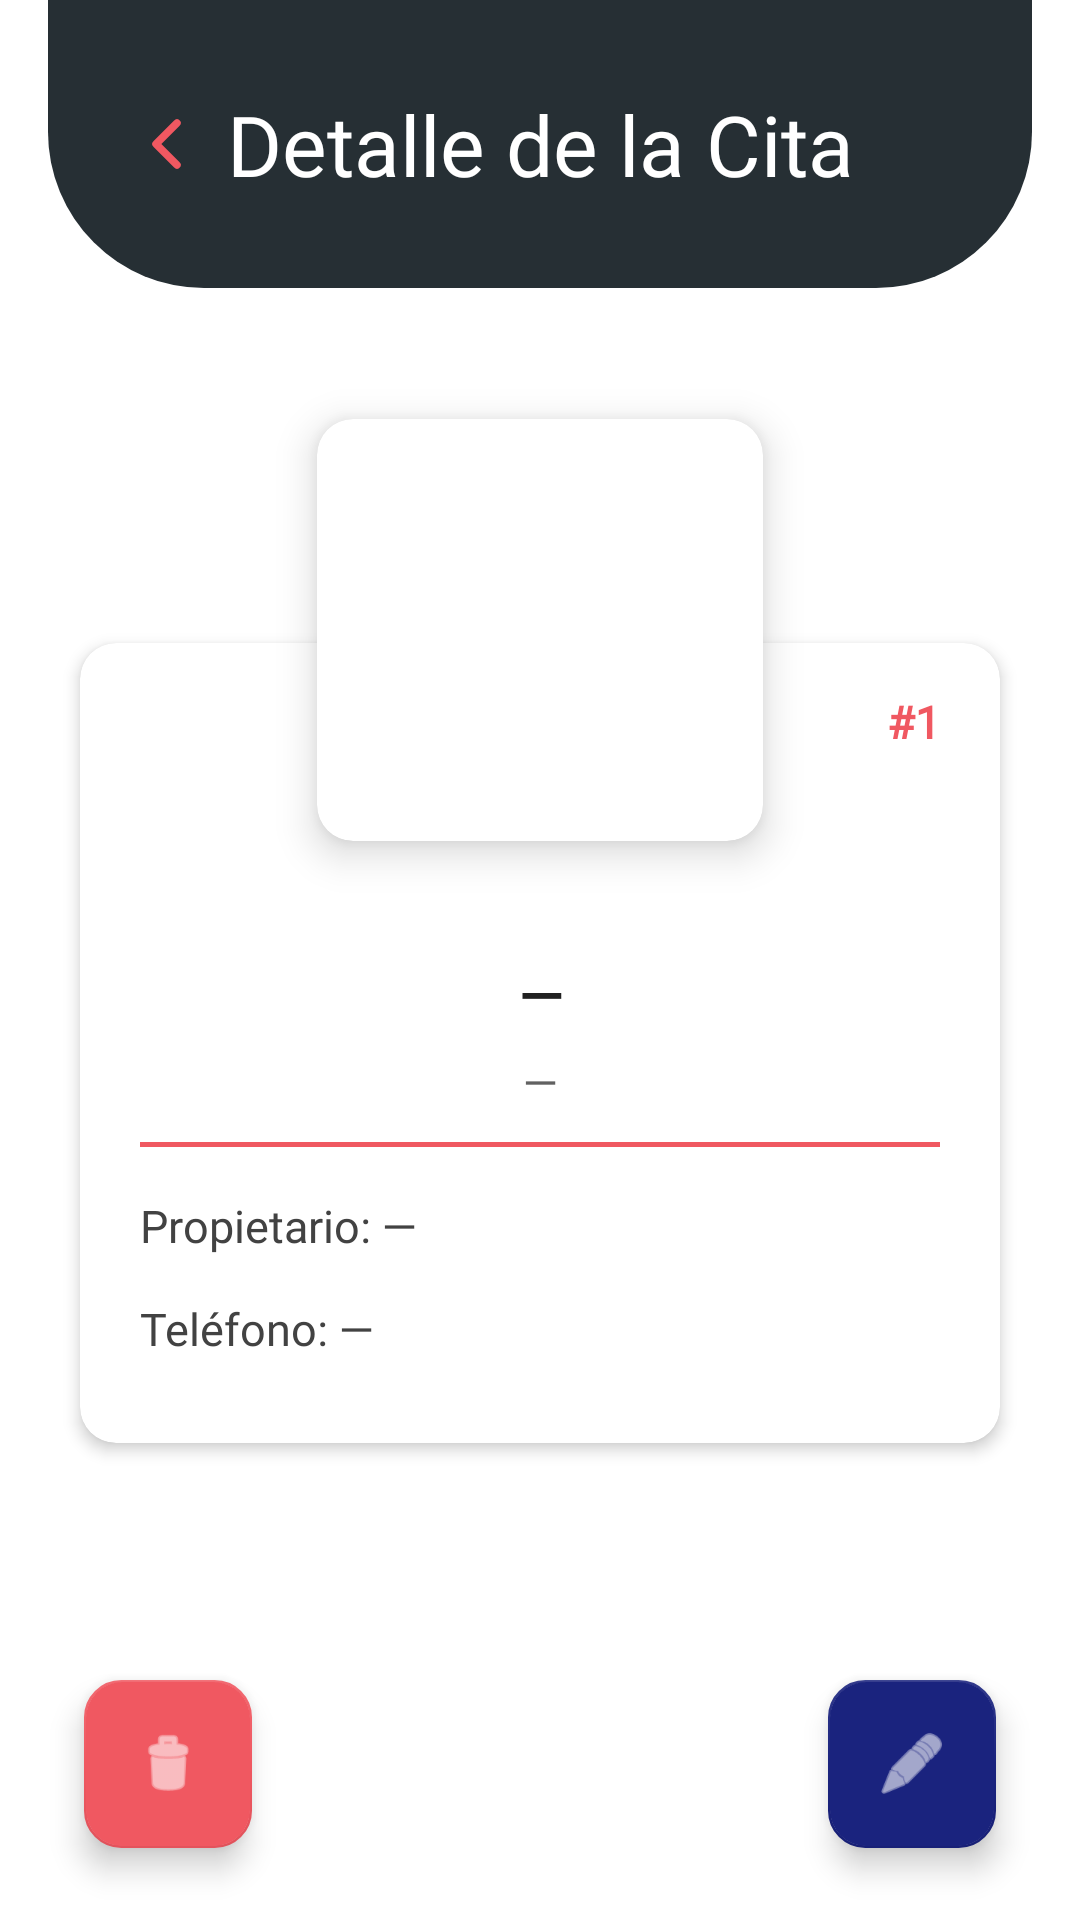

Icons on this 1080 × 1920 Android screen, each with its box as {"x1": x1, "y1": y1, "x2": x2, "y2": y2}:
Editar cita: {"x1": 828, "y1": 1680, "x2": 996, "y2": 1848}
Eliminar cita: {"x1": 84, "y1": 1680, "x2": 252, "y2": 1848}
